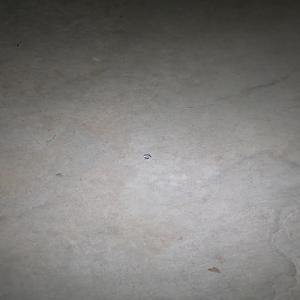Nut: (142, 154, 152, 160)
